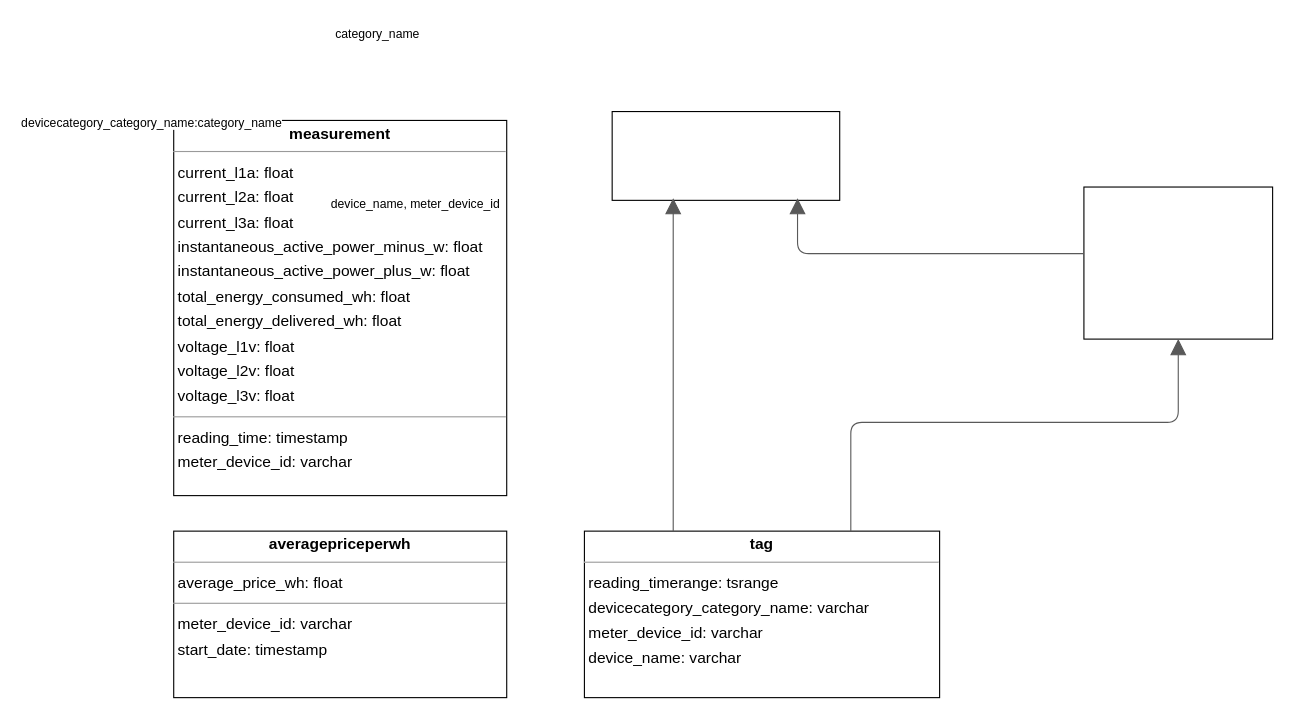
Image size: 1292x717. Some labels were removed from this diagram. Here are the shapes that lost their labels. From the top down, the centre of each, then its label:
At point 725,155: "devicecategory category_name: varchar".
At point 1178,262: "device category_name: varchar device_name: varchar meter_device_id: varchar".
